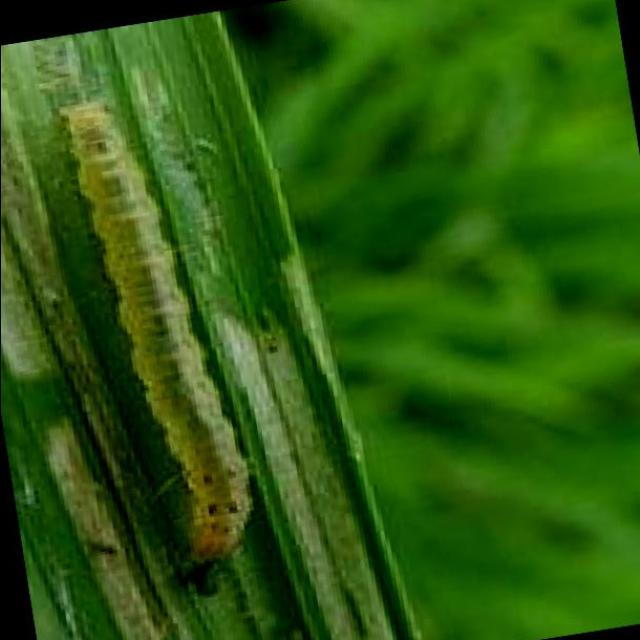leaf folder: (63, 102, 250, 561)
